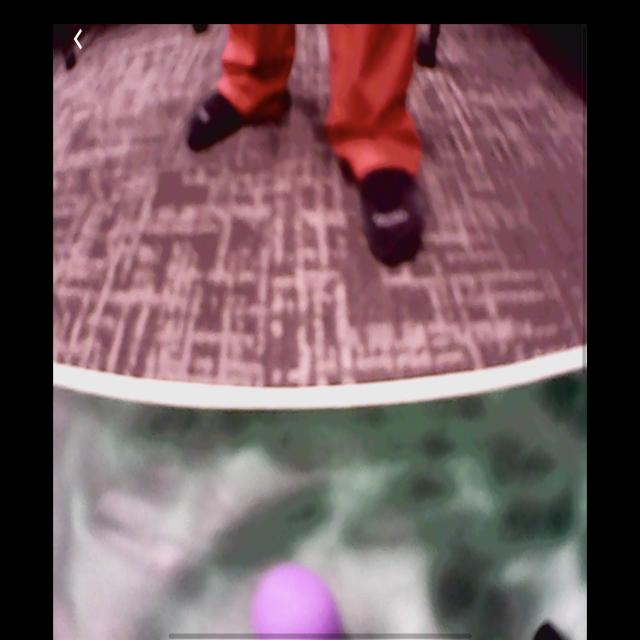ball: (251, 566, 342, 636)
